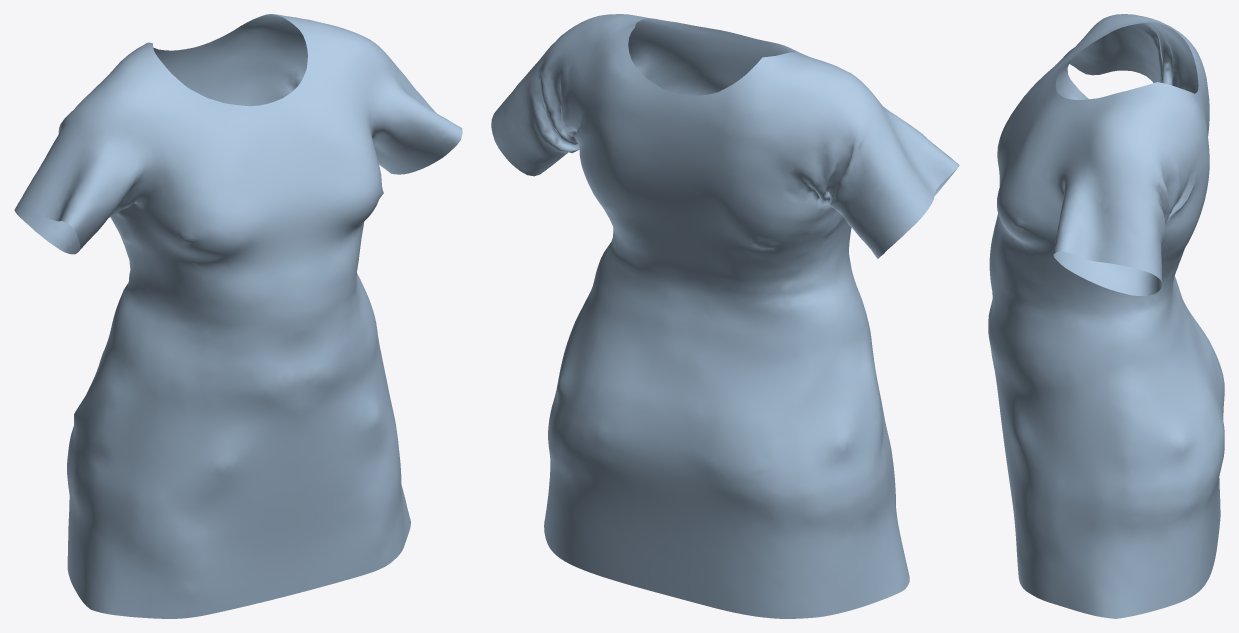
File: dress_XXL.glb
3 renders of one model, left to right at view 1: azimuth 30°, elevation 25°; view 2: azimuth 150°, elevation 25°; view 3: azimuth 270°, elevation 25°, orthographic. The views are drawn at different scales.
Parts seen in each view (by area): view 1: geometry_0; view 2: geometry_0; view 3: geometry_0.
Boxes of the visible parts, x1,y1,x2,y2 form: geometry_0: (14,14,462,618); geometry_0: (491,14,959,618); geometry_0: (988,14,1224,618).
Size of the model in its own units: 0.6245 by 0.7427 by 0.323.
